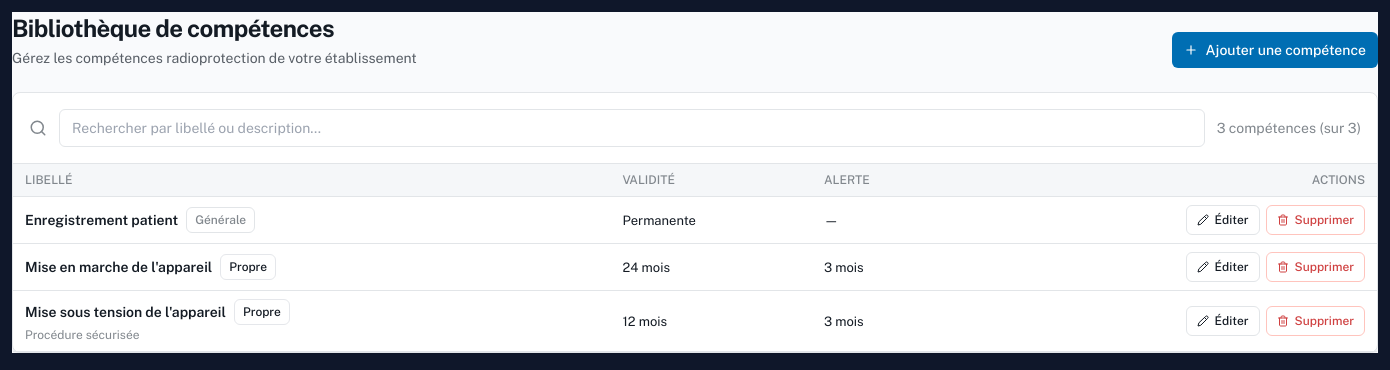
Test: CompetencesList - Recherche › la recherche est insensible à la casse et aux accents
The width and height of the screenshot is (1390, 370).
Expected: the text "Mise sous tension de l'appareil" is shown, x1=25 y1=302 x2=226 y2=322
Type "MISE" into the field with placeholder "Rechercher par libellé ou description…" at (632, 128), box x1=59 y1=109 x2=1205 y2=147
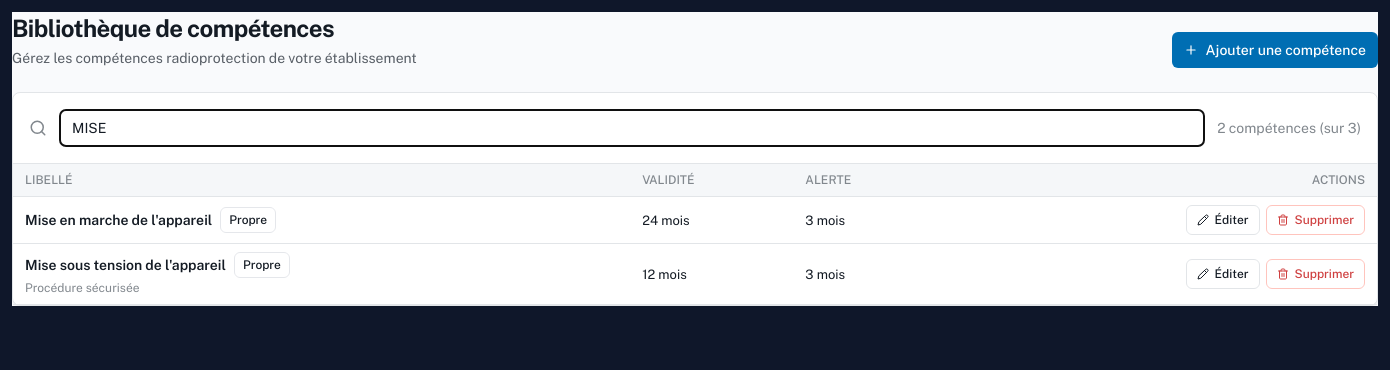
Expected: the text "Mise sous tension de l'appareil" is shown, x1=25 y1=255 x2=226 y2=275
Result: the text "Enregistrement patient" is gone
